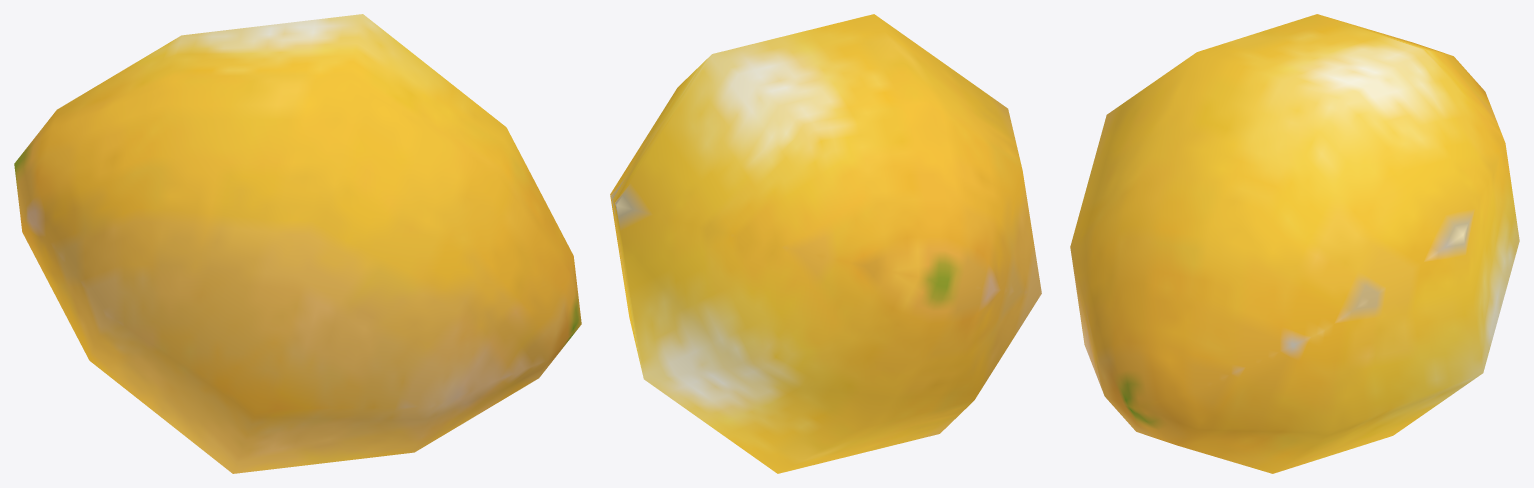
3 views of the same model, side by side, from view 1: azimuth 30°, elevation 25°; view 2: azimuth 150°, elevation 25°; view 3: azimuth 270°, elevation 25° (orthographic). The views are drawn at different scales.
Parts seen in each view (by area): view 1: Lemon; view 2: Lemon; view 3: Lemon.
Part boxes in pixels (x1=…): Lemon: x1=14, y1=14, x2=581, y2=473; Lemon: x1=610, y1=14, x2=1041, y2=473; Lemon: x1=1070, y1=14, x2=1519, y2=473.
Bounding box in the file's own units: 21.76 × 18.78 × 19.88.
Materials: 1 (1 with a texture image).
